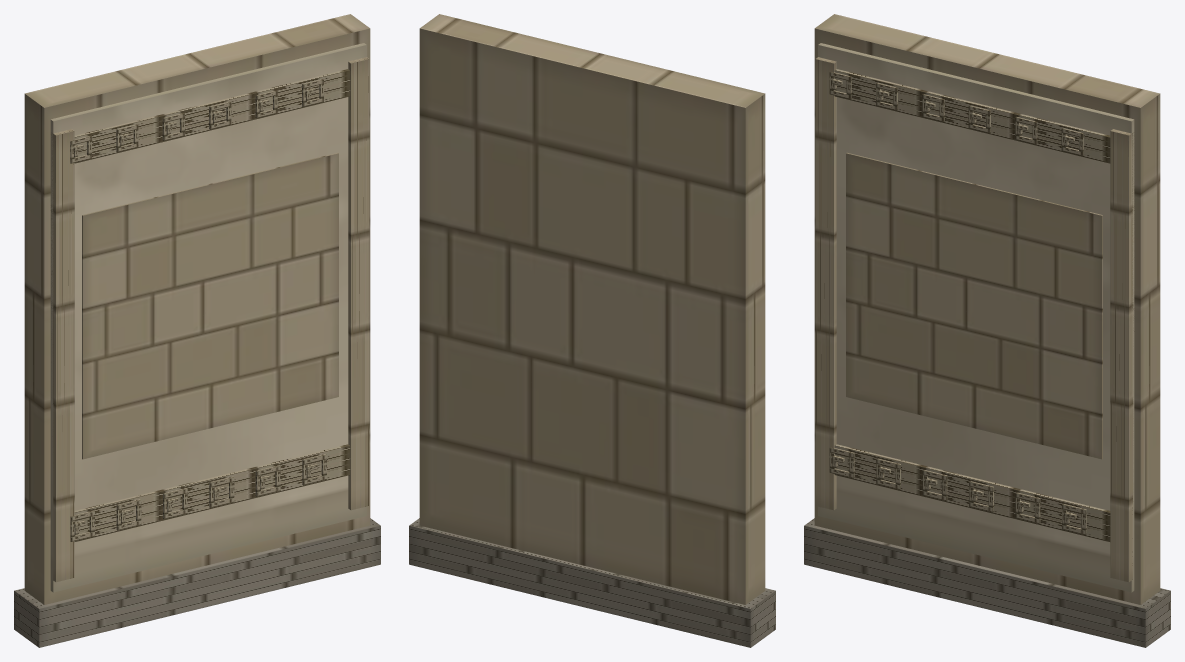
The model's file is ae_duel_stone_wall_panel_lod0.glb.
3 views of the same model, side by side, from view 1: azimuth 30°, elevation 25°; view 2: azimuth 150°, elevation 25°; view 3: azimuth 330°, elevation 25° (orthographic).
Parts seen in each view (by area): view 1: ae_duel_stone_wall_panel_lod0; view 2: ae_duel_stone_wall_panel_lod0; view 3: ae_duel_stone_wall_panel_lod0.
Part boxes in pixels (<box>): ae_duel_stone_wall_panel_lod0: <box>14,14,380,647</box>; ae_duel_stone_wall_panel_lod0: <box>409,14,775,647</box>; ae_duel_stone_wall_panel_lod0: <box>804,14,1170,647</box>.
Bounding box in the file's own units: 2.2 × 3.3 × 0.3231.
Materials: 1 (1 with a texture image).
